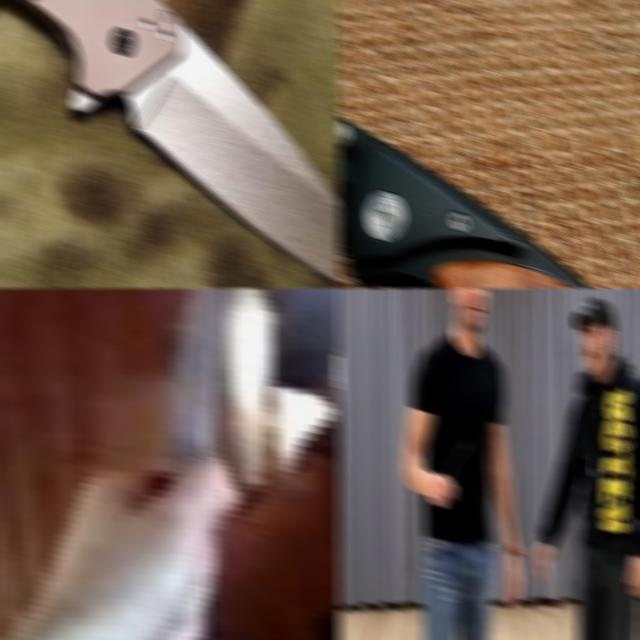Knife: (18, 0, 342, 285)
Knife_Handle: (58, 288, 229, 640), (427, 437, 474, 508)
